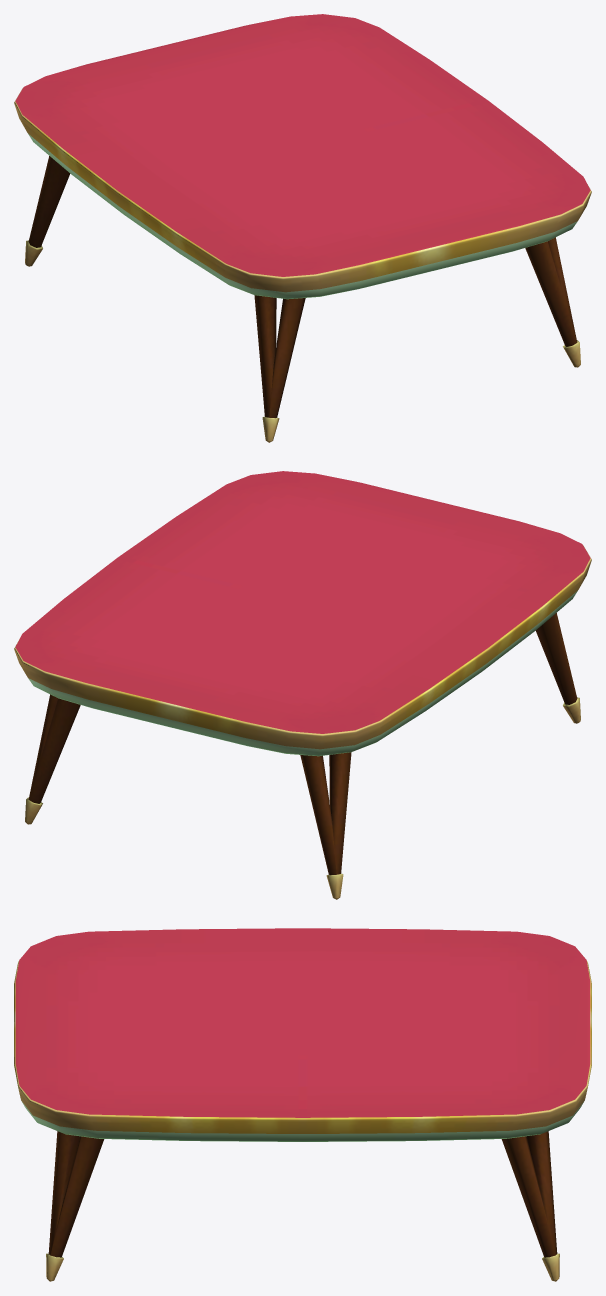
File: Table.fbx
The picture shows the model from 3 angles, top to bottom: view 1: azimuth 30°, elevation 25°; view 2: azimuth 150°, elevation 25°; view 3: azimuth 270°, elevation 25°; orthographic projection. The views are drawn at different scales.
Parts seen in each view (by area): view 1: Table; view 2: Table; view 3: Table.
Boxes of the visible parts, x1,y1,x2,y2 form: Table: (14, 14, 591, 442); Table: (14, 471, 591, 899); Table: (14, 928, 591, 1281).
Bounding box in the file's own units: 101 × 44.34 × 129.
Materials: 1 (1 with a texture image).
